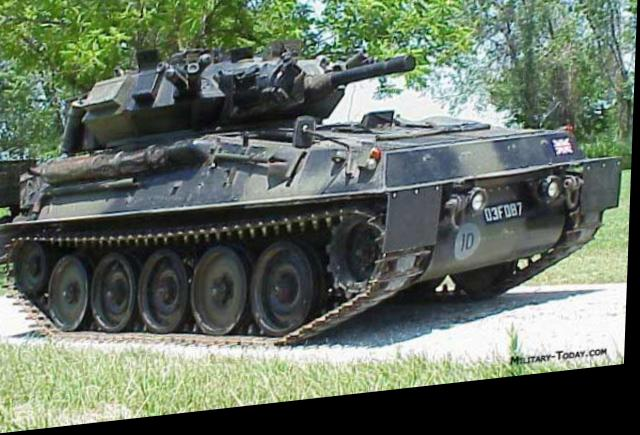tank: (0, 27, 632, 385)
